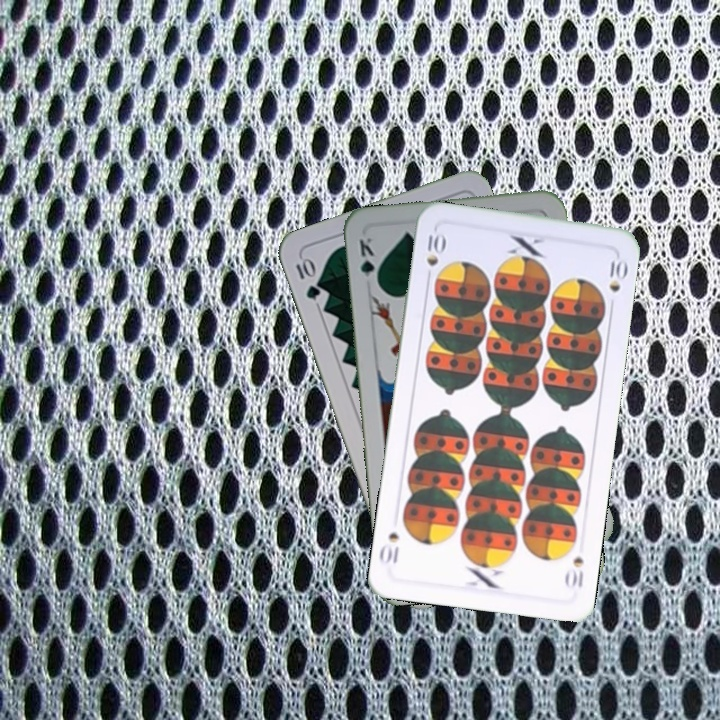G10: (291, 254, 323, 303)
GK: (355, 232, 381, 290)
S10: (422, 226, 447, 269), (561, 551, 586, 591)
